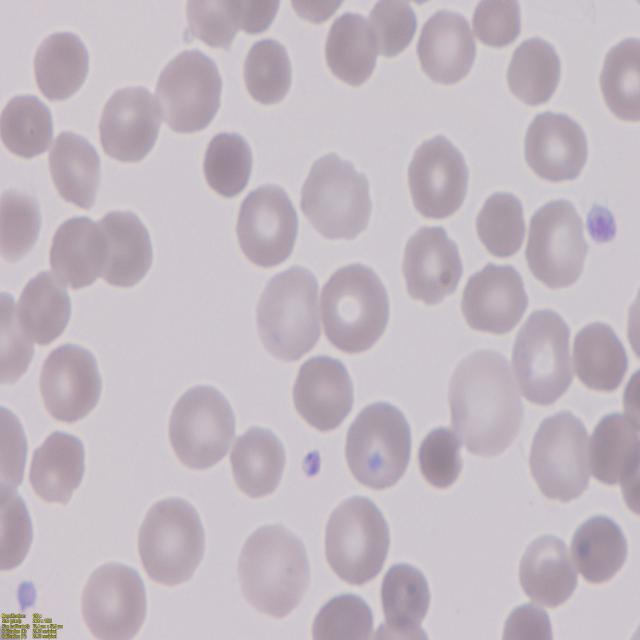Platelets: (12, 570, 42, 612)
RBC: (240, 206, 310, 349), (444, 347, 520, 458), (234, 520, 314, 624), (251, 260, 324, 366), (317, 260, 393, 358), (508, 308, 577, 412), (150, 40, 224, 136), (322, 491, 395, 588), (344, 398, 416, 496), (526, 403, 594, 506), (135, 496, 208, 591), (299, 152, 371, 248), (522, 192, 590, 290), (168, 383, 239, 474), (232, 182, 300, 274), (404, 134, 471, 225), (34, 338, 102, 426), (290, 349, 360, 434), (512, 524, 582, 606), (79, 557, 148, 640), (398, 220, 463, 308), (523, 107, 592, 187), (98, 82, 164, 165), (462, 260, 532, 337), (48, 210, 112, 290), (416, 5, 479, 86), (29, 422, 91, 503), (570, 315, 628, 399), (13, 266, 73, 346), (33, 26, 94, 104), (48, 128, 106, 208), (572, 508, 630, 587), (584, 404, 634, 492), (227, 421, 284, 498), (472, 186, 529, 262), (375, 558, 432, 634), (1, 88, 57, 160), (598, 33, 640, 123), (308, 587, 379, 639), (0, 402, 31, 501), (0, 484, 33, 576), (471, 0, 525, 54), (493, 600, 560, 640)
Spherocyte: (502, 30, 564, 109), (324, 5, 382, 86), (199, 122, 257, 198), (238, 33, 296, 107), (417, 428, 464, 488)
